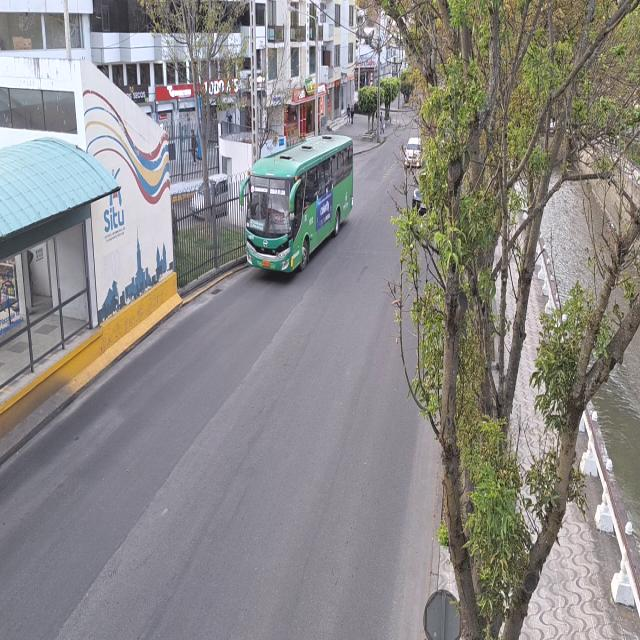BUS: (245, 136, 354, 282)
